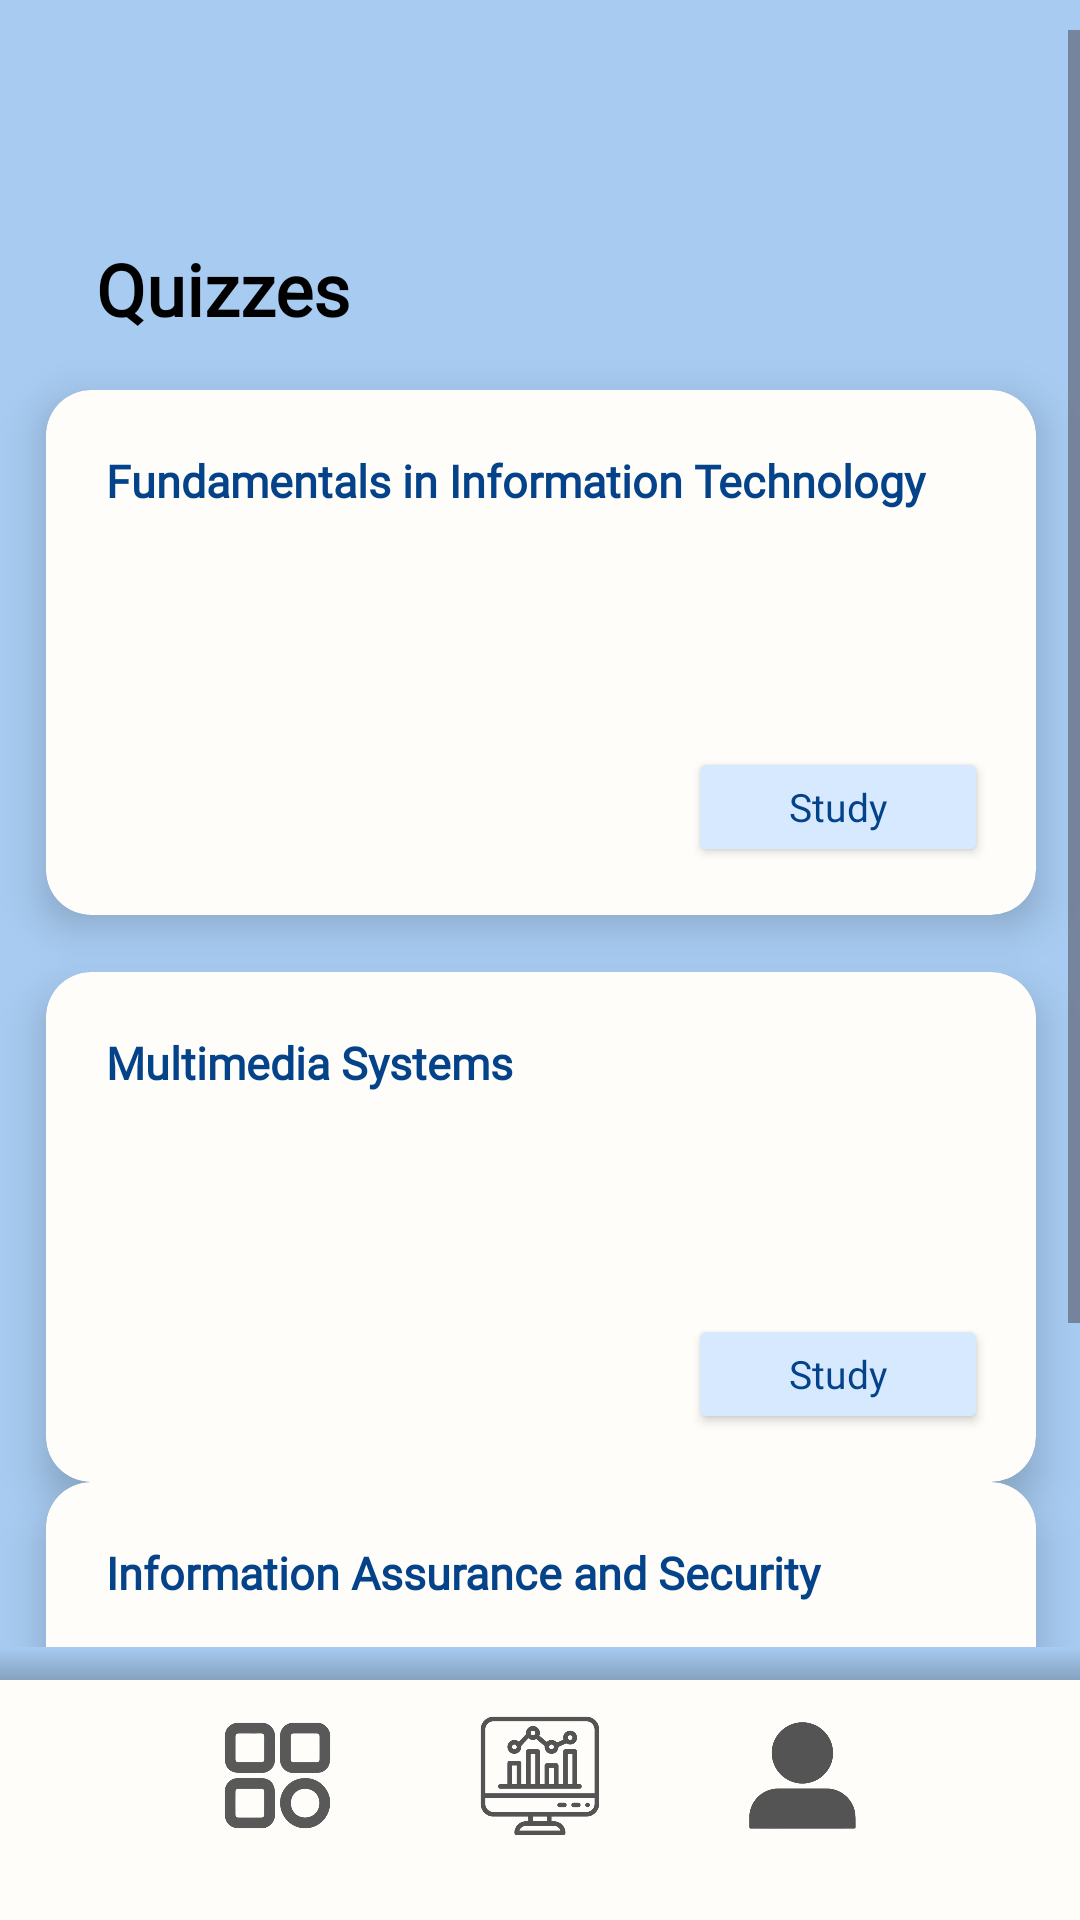

Where to tap for icons on this 1080px x 1920px app screen, as (x,y):
dashboard: (277,1775)
progress: (540,1776)
user: (802,1775)
